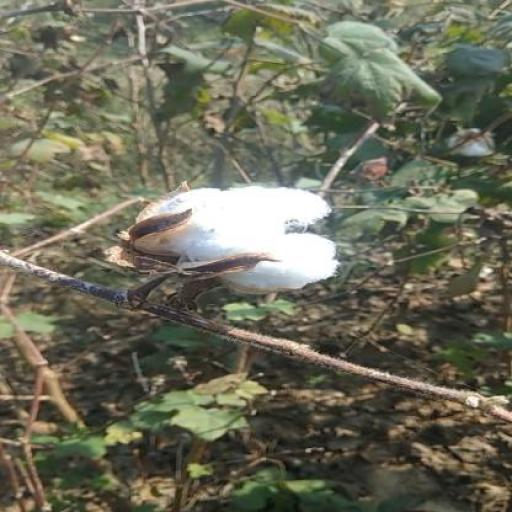cotton_ready: (91, 175, 357, 338)
